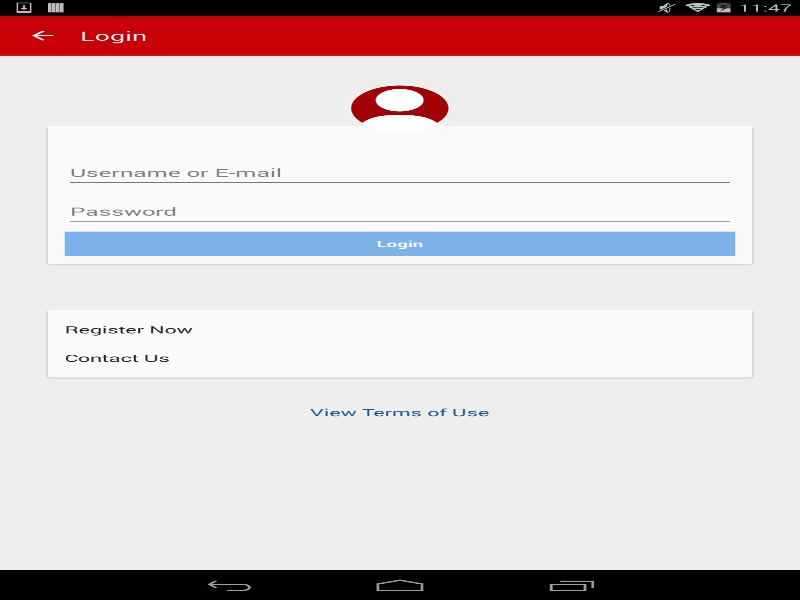Button: (0, 18, 74, 53)
Input: (64, 159, 735, 187), (64, 198, 735, 226)
